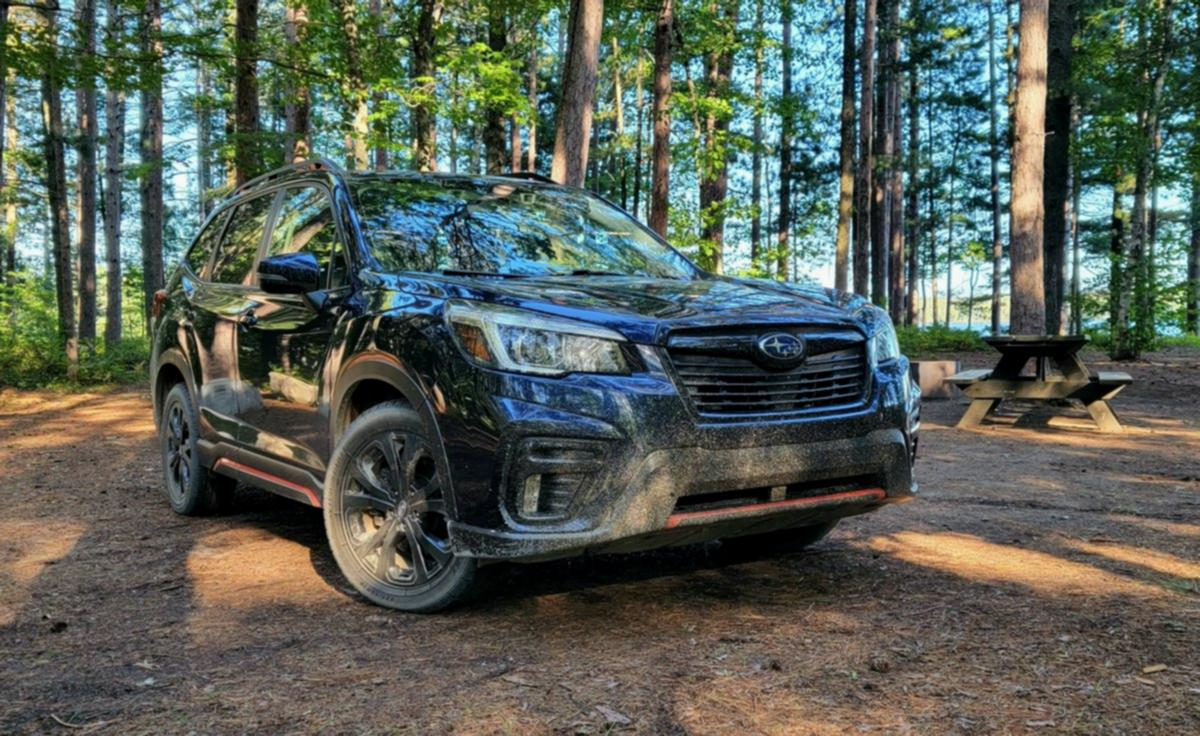subaru: (743, 320, 821, 369)
